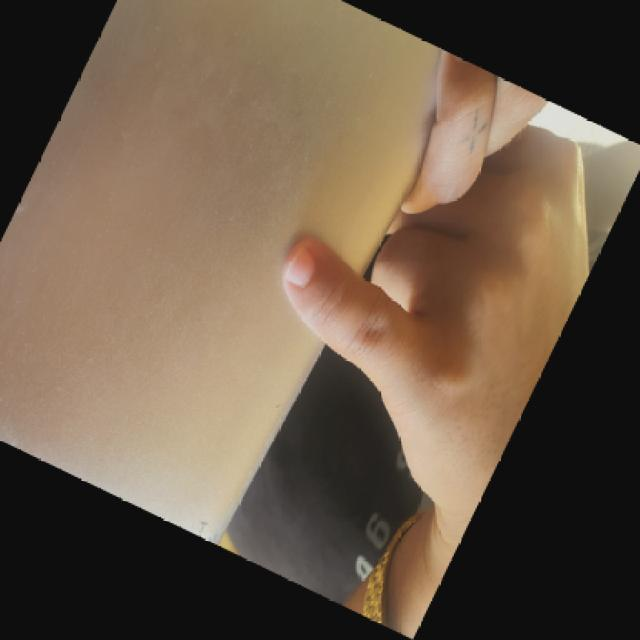Nail: (283, 246, 314, 287)
